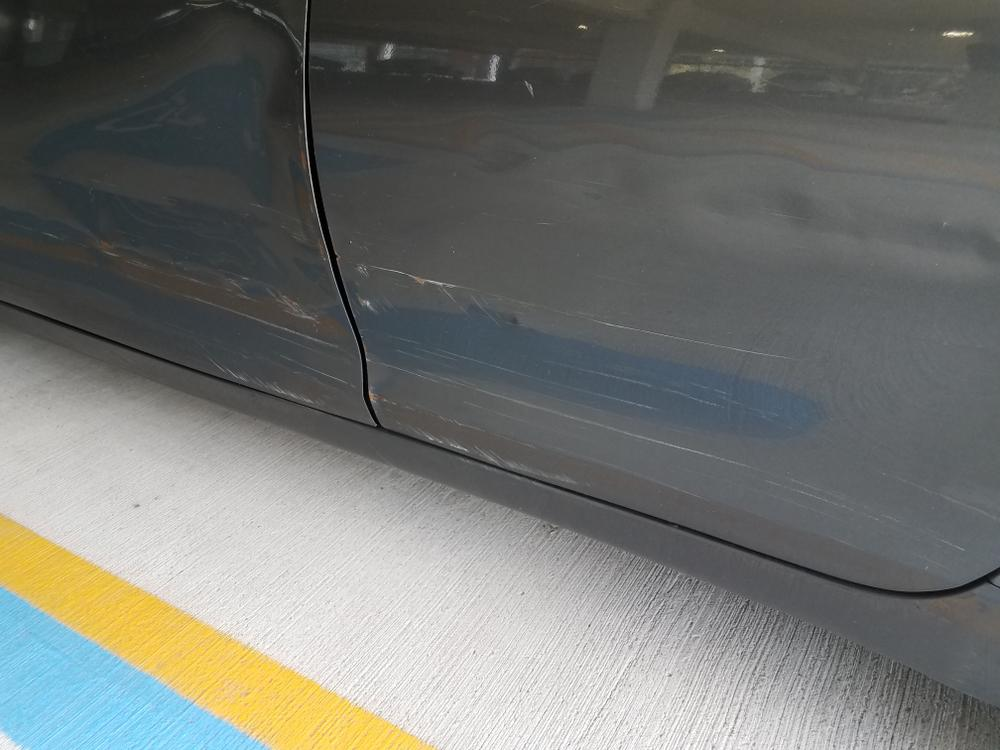dent: (15, 2, 326, 317), (462, 139, 1000, 276)
scratch: (357, 256, 1000, 552), (193, 300, 355, 415)
